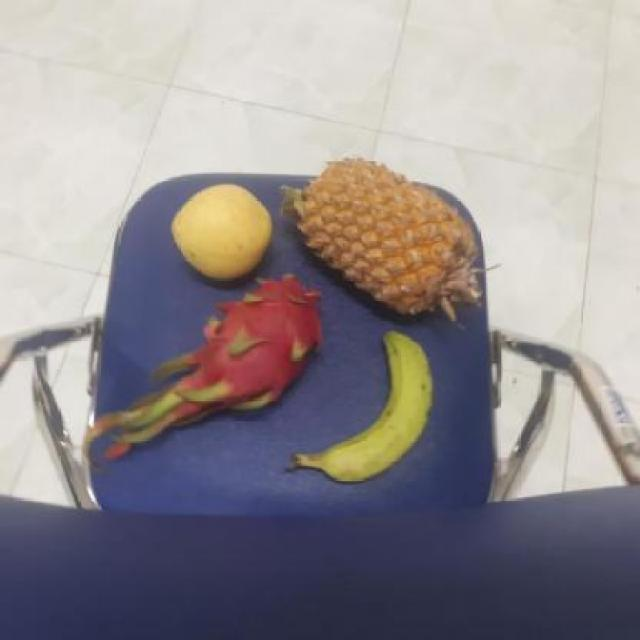banana: (286, 327, 436, 482)
dragon fruit: (191, 272, 320, 416)
pear: (164, 184, 274, 282)
pineapple: (282, 152, 480, 326)
